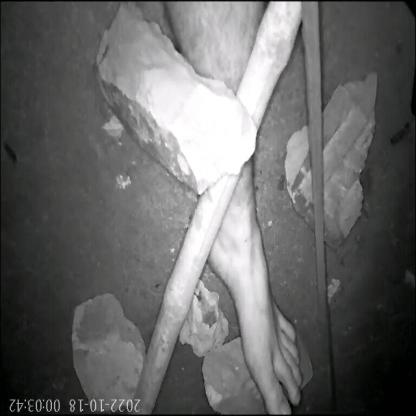leg: (186, 198, 323, 416)
